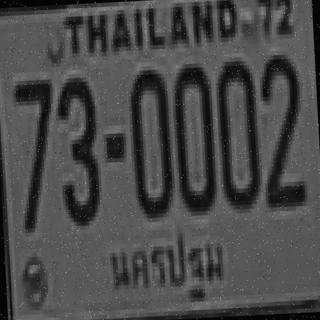N00: (127, 65, 174, 215), (214, 57, 259, 206), (171, 61, 215, 210)
N02: (257, 53, 304, 206)
N03: (55, 73, 100, 222)
N07: (13, 76, 57, 229)
P28: (104, 222, 234, 315)
